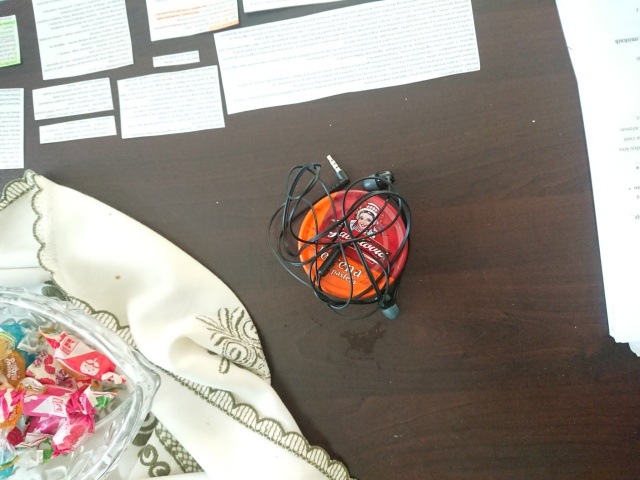Gavrilovic Pork Liver Pate 100g: (294, 186, 412, 308)
